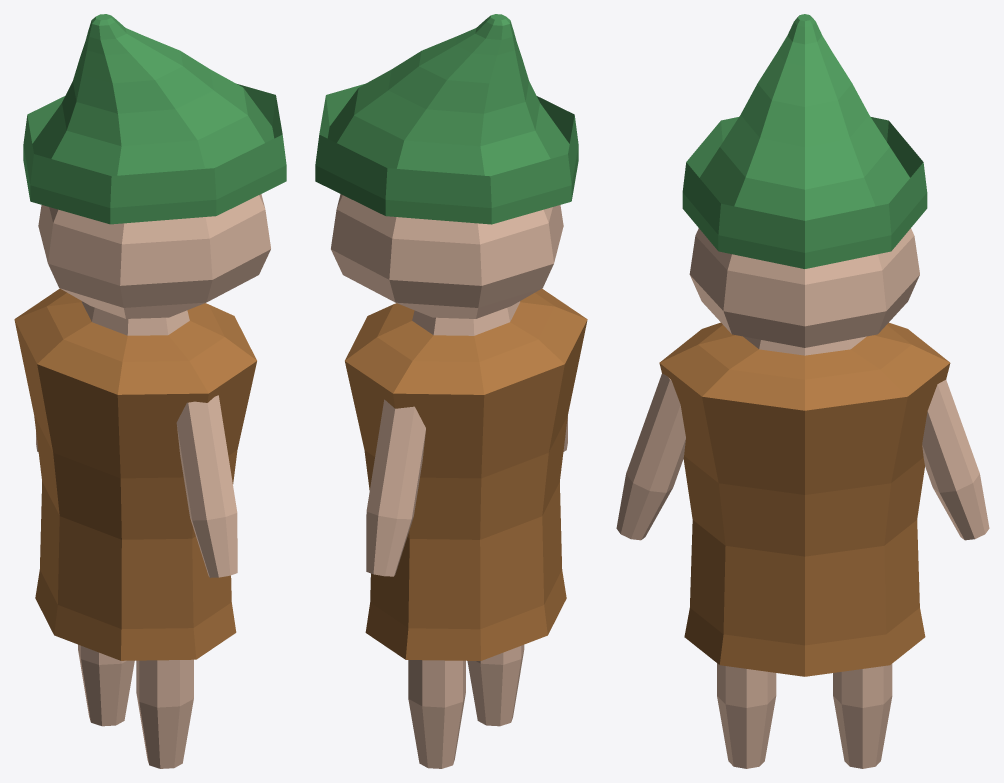
Rendered from Character.fbx.
3 renders of one model, left to right at view 1: azimuth 30°, elevation 25°; view 2: azimuth 150°, elevation 25°; view 3: azimuth 270°, elevation 25°, orthographic.
Parts seen in each view (by area): view 1: Cylinder.012, Cylinder.013, Cylinder.017, Cylinder.014, Cylinder.008, Cylinder.007; view 2: Cylinder.012, Cylinder.013, Cylinder.017, Cylinder.016, Cylinder.007, Cylinder.008; view 3: Cylinder.012, Cylinder.013, Cylinder.017, Cylinder.014, Cylinder.016, Cylinder.007, Cylinder.008.
Part boxes in pixels (x1=…): Cylinder.012: x1=14, y1=288, x2=256, y2=660; Cylinder.013: x1=23, y1=14, x2=286, y2=224; Cylinder.017: x1=38, y1=194, x2=270, y2=318; Cylinder.014: x1=176, y1=395, x2=237, y2=577; Cylinder.008: x1=136, y1=659, x2=193, y2=768; Cylinder.007: x1=78, y1=644, x2=134, y2=726; Cylinder.012: x1=345, y1=288, x2=587, y2=660; Cylinder.013: x1=315, y1=14, x2=578, y2=224; Cylinder.017: x1=331, y1=194, x2=563, y2=318; Cylinder.016: x1=366, y1=399, x2=425, y2=576; Cylinder.007: x1=408, y1=660, x2=465, y2=768; Cylinder.008: x1=467, y1=645, x2=524, y2=726; Cylinder.012: x1=659, y1=322, x2=950, y2=676; Cylinder.013: x1=682, y1=14, x2=927, y2=268; Cylinder.017: x1=689, y1=228, x2=919, y2=347; Cylinder.014: x1=616, y1=373, x2=685, y2=540; Cylinder.016: x1=922, y1=380, x2=989, y2=540; Cylinder.007: x1=833, y1=664, x2=892, y2=768; Cylinder.008: x1=717, y1=663, x2=776, y2=768.
Size of the model in its own units: 235 by 659 by 306.
